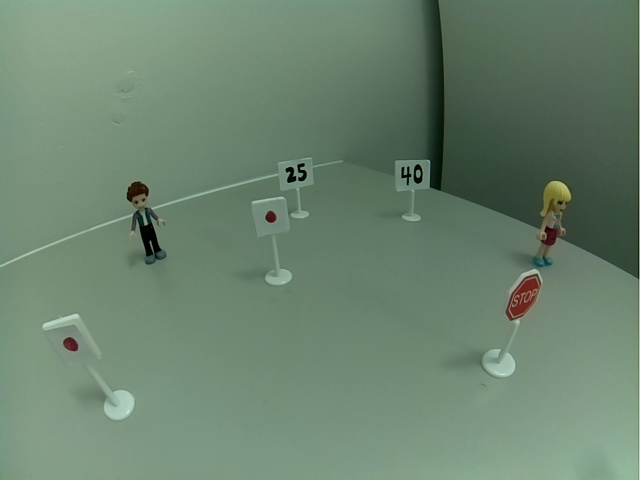people: (124, 180, 172, 267), (529, 178, 572, 268)
red light: (41, 314, 102, 369), (251, 196, 291, 238)
speed 25: (277, 156, 314, 190)
speed 40: (394, 158, 432, 192)
stop: (502, 272, 544, 323)
